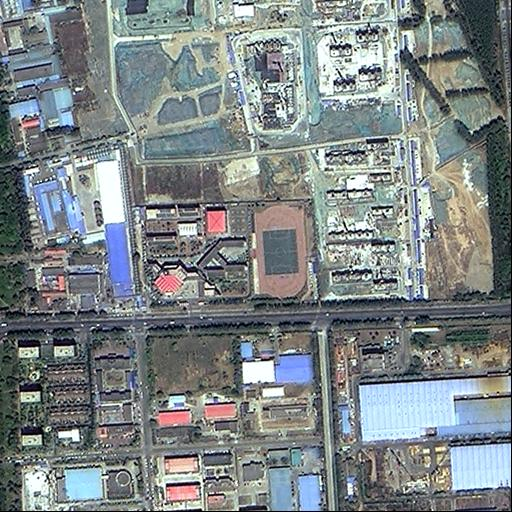school: (140, 202, 311, 308)
